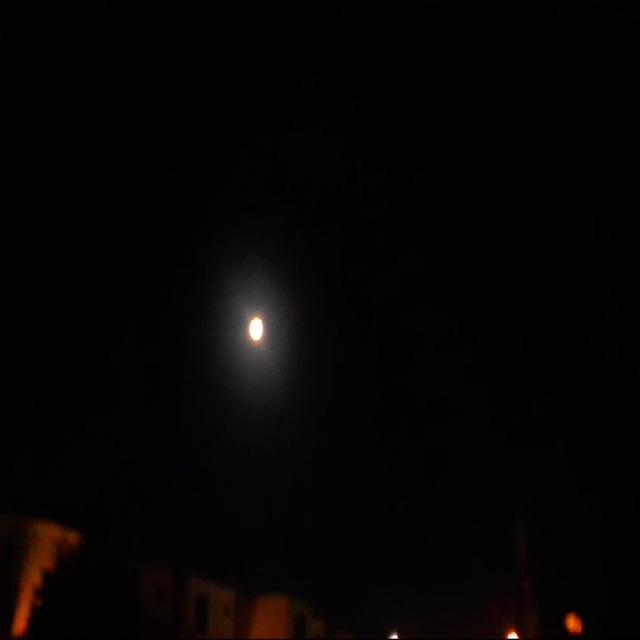moon: (232, 308, 255, 348)
